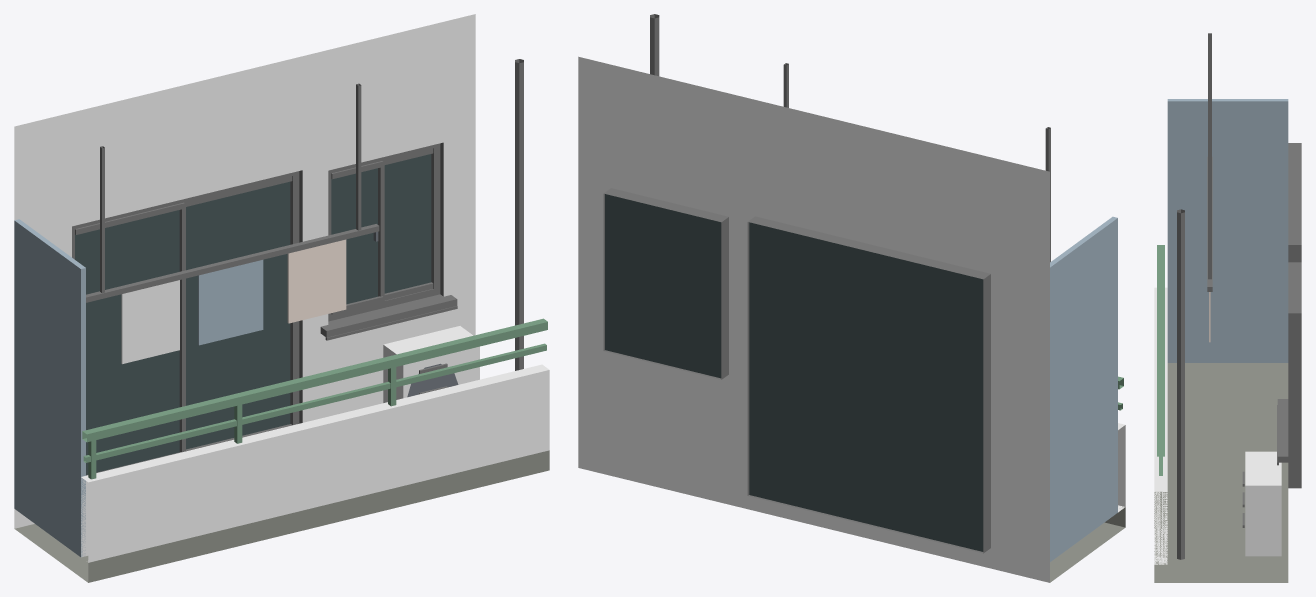
Rendered from mid-w1_close.fbx.
3 views of the same model, side by side, from view 1: azimuth 30°, elevation 25°; view 2: azimuth 150°, elevation 25°; view 3: azimuth 270°, elevation 25° (orthographic). The views are drawn at different scales.
Parts seen in each view (by area): view 1: a2006/250/mid-w1_close; view 2: a2006/250/mid-w1_close; view 3: a2006/250/mid-w1_close.
Part boxes in pixels (bbox=[...]): a2006/250/mid-w1_close: bbox=[14, 14, 549, 582]; a2006/250/mid-w1_close: bbox=[578, 14, 1125, 582]; a2006/250/mid-w1_close: bbox=[1154, 33, 1301, 582].
Bounding box in the file's own units: 3.6 × 3 × 1.1.
